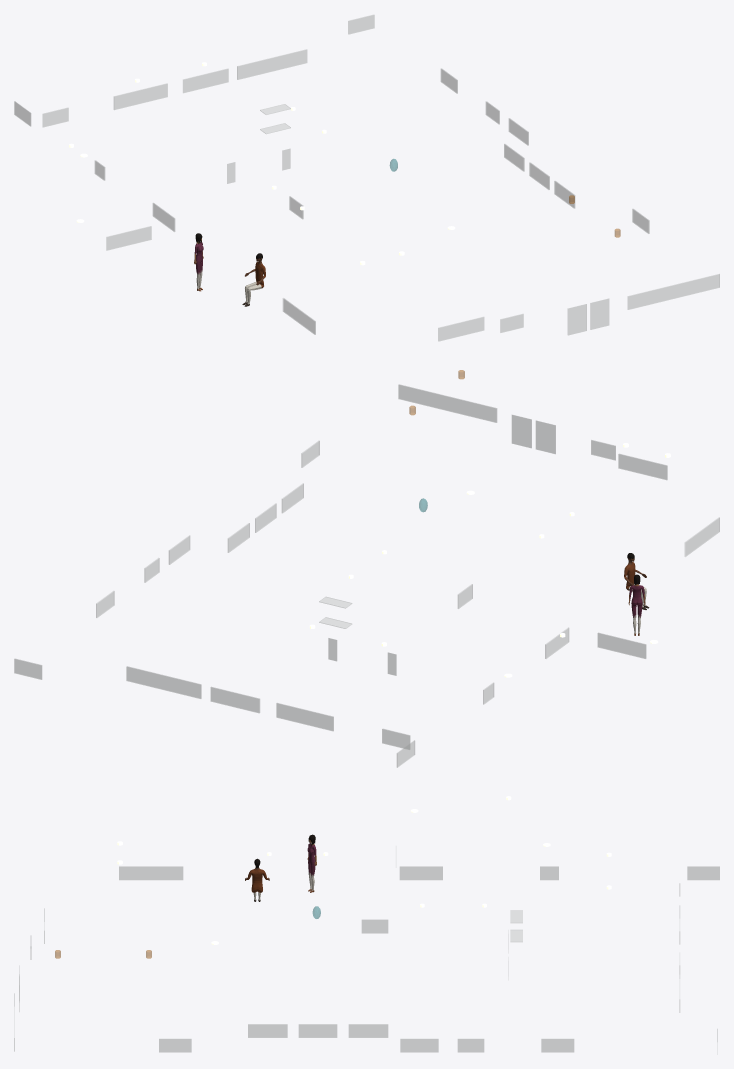
The model's file is ground-fixtures.gltf.
3 renders of one model, top to bottom at view 1: azimuth 30°, elevation 25°; view 2: azimuth 150°, elevation 25°; view 3: azimuth 270°, elevation 25°, orthographic. The views are drawn at different scales.
Visible parts, largest first — view 1: ground.baked.glass.001, ground.baked.flat.001; view 2: ground.baked.glass.001, ground.baked.flat.001; view 3: ground.baked.glass.001, ground.baked.flat.001.
Boxes of the visible parts, left/top/right/bottom form: ground.baked.glass.001: left=14, top=15, right=719, bottom=341; ground.baked.flat.001: left=194, top=233, right=265, bottom=306; ground.baked.glass.001: left=14, top=370, right=719, bottom=767; ground.baked.flat.001: left=624, top=553, right=649, bottom=635; ground.baked.glass.001: left=14, top=846, right=719, bottom=1054; ground.baked.flat.001: left=245, top=834, right=316, bottom=901.
Size of the model in its own units: 5.4 by 0.9472 by 7.36.
